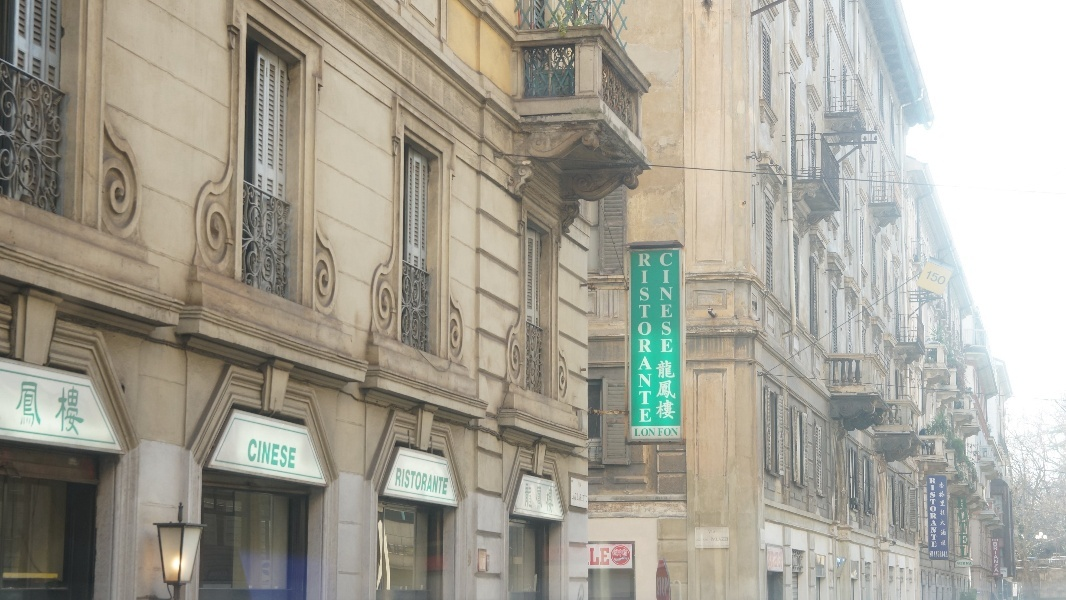text: (641, 254, 652, 423), (660, 253, 672, 353), (929, 478, 944, 548), (657, 360, 672, 420), (33, 381, 48, 438), (49, 381, 64, 438), (65, 381, 80, 438), (22, 381, 32, 438), (961, 498, 970, 558), (257, 438, 272, 469), (273, 438, 288, 469), (81, 381, 89, 438), (529, 484, 544, 514), (993, 543, 1008, 572), (433, 468, 449, 495), (401, 468, 416, 495), (417, 468, 432, 495), (638, 254, 640, 423), (939, 482, 944, 546), (545, 484, 555, 514), (657, 577, 672, 597), (593, 548, 608, 566), (289, 438, 297, 469), (673, 360, 677, 420), (929, 270, 944, 286), (769, 551, 781, 568), (250, 438, 256, 469), (957, 498, 960, 558), (945, 482, 947, 546), (577, 492, 588, 503), (641, 429, 655, 437), (658, 428, 672, 436), (929, 551, 944, 557), (578, 482, 592, 488), (397, 468, 400, 495), (614, 550, 624, 557), (1013, 583, 1024, 589), (526, 484, 528, 514), (614, 557, 624, 562), (993, 573, 1008, 576), (572, 492, 576, 503), (635, 429, 640, 437), (673, 428, 678, 436), (590, 548, 592, 566), (708, 531, 720, 534), (711, 538, 720, 542), (961, 562, 973, 565), (721, 538, 729, 542), (945, 270, 947, 286), (705, 545, 720, 547), (977, 592, 992, 594), (481, 552, 486, 557), (1001, 570, 1008, 573), (609, 548, 610, 566), (945, 551, 948, 557), (696, 539, 704, 541), (721, 545, 729, 547), (625, 557, 628, 562), (625, 550, 627, 557), (697, 528, 704, 530), (697, 545, 704, 547), (572, 480, 576, 483), (705, 539, 709, 541), (958, 562, 960, 565)
